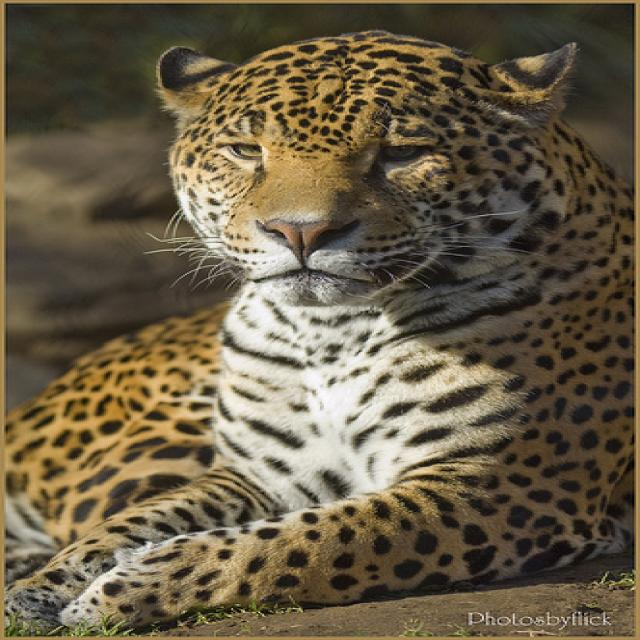Leopard: (0, 24, 634, 636)
